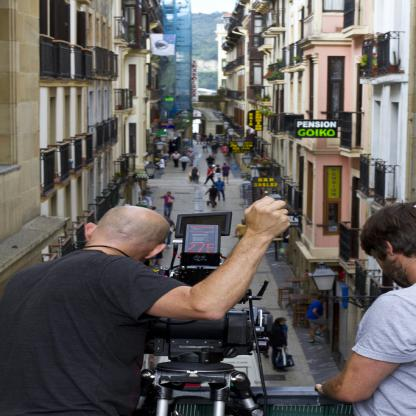Camera: (148, 215, 266, 416)
